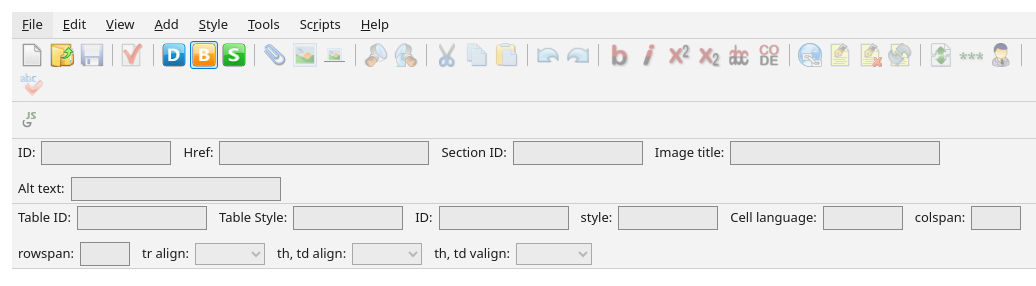
Scripts menu and toolbar › shows "No scripts found" plus the housekeeping entries for an empty catalogue
Click the menu item with test id "menu-scripts" at (320, 25), box [290,12,351,38]
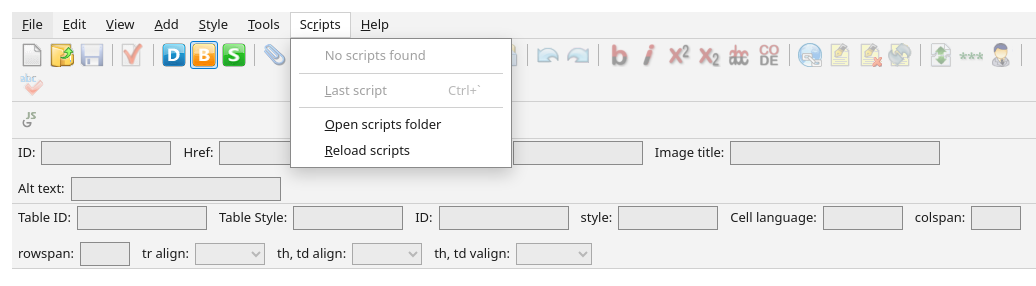
Result: the menu item with test id "menu-scripts-none" reads "No scripts found" at [325,46,426,64]
Result: the menu item with test id "menu-scripts-openFolder" is shown at [325,115,442,133]
